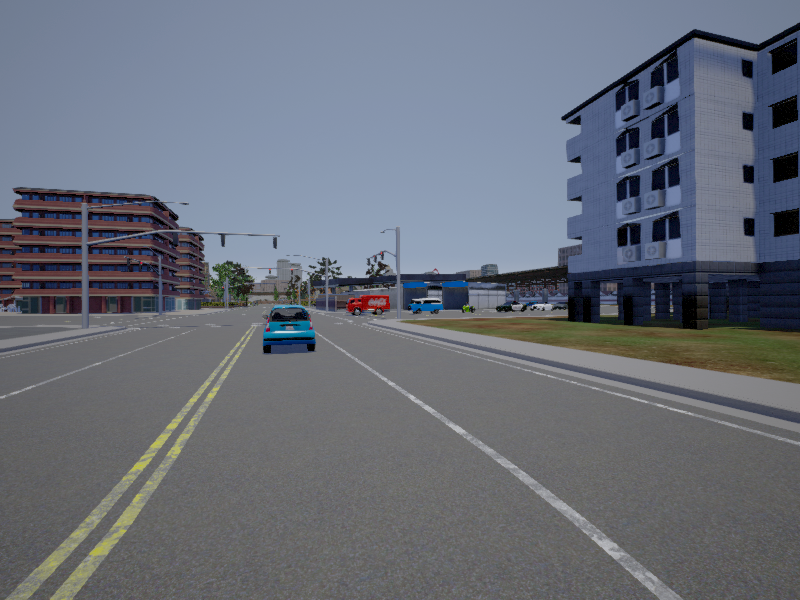Benign: (263, 303, 315, 353), (347, 295, 391, 316), (407, 299, 445, 317), (495, 298, 528, 315)
